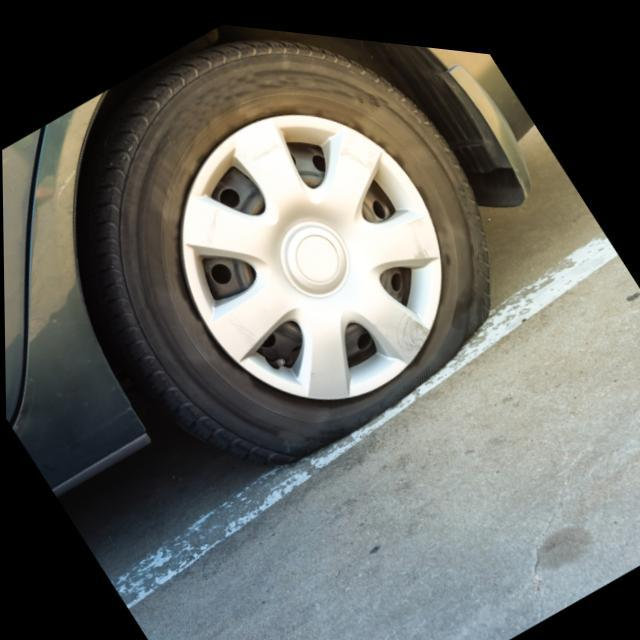tire flat: (92, 30, 495, 453)
